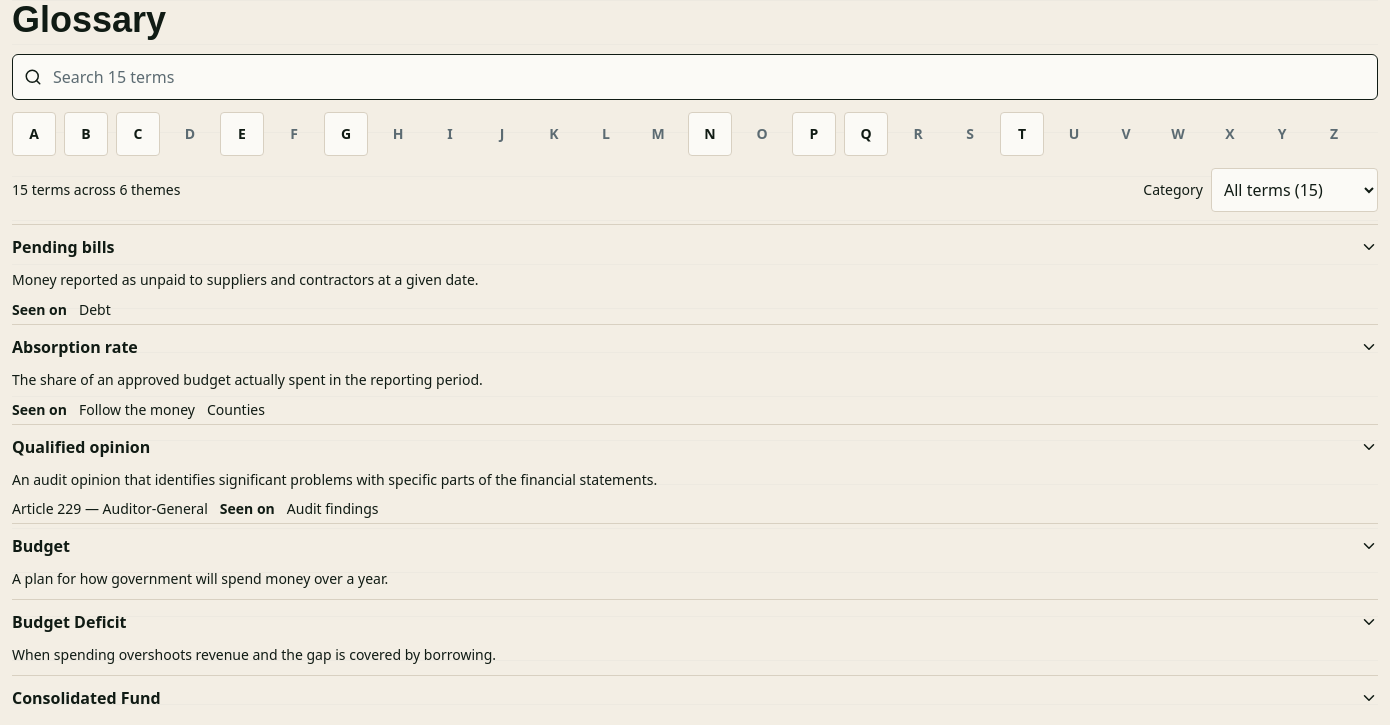
it: explains the exceptions and lawful withdrawals from the Consolidated Fund
The width and height of the screenshot is (1390, 725).
Click the button "Consolidated Fund" at point(86, 698), box x1=12 y1=676 x2=1378 y2=720
(page scrolled)
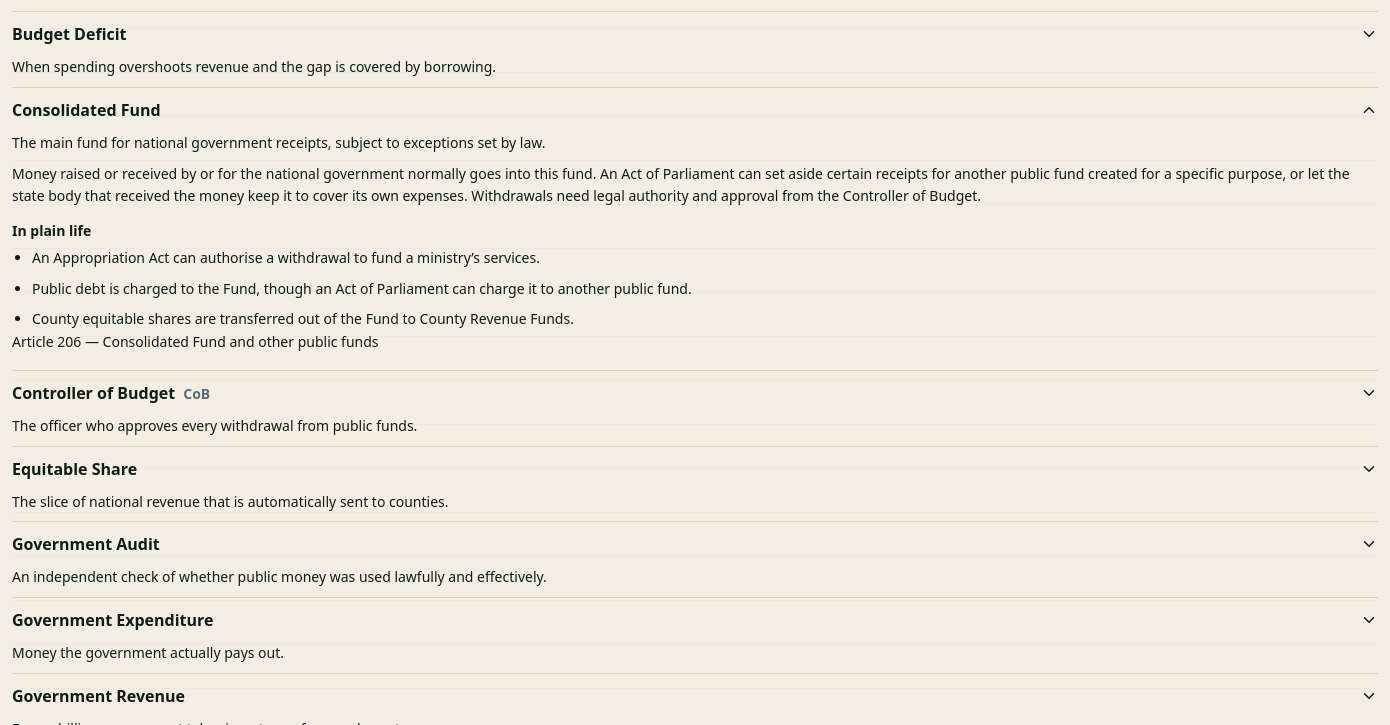
Result: the list item "Appropriation Act can authorise a withdrawal" is shown at x1=32 y1=248 x2=540 y2=267
